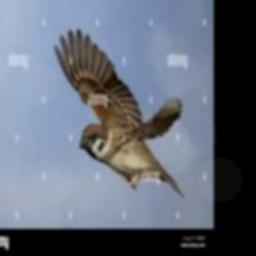Sparrow: (53, 29, 184, 198)
